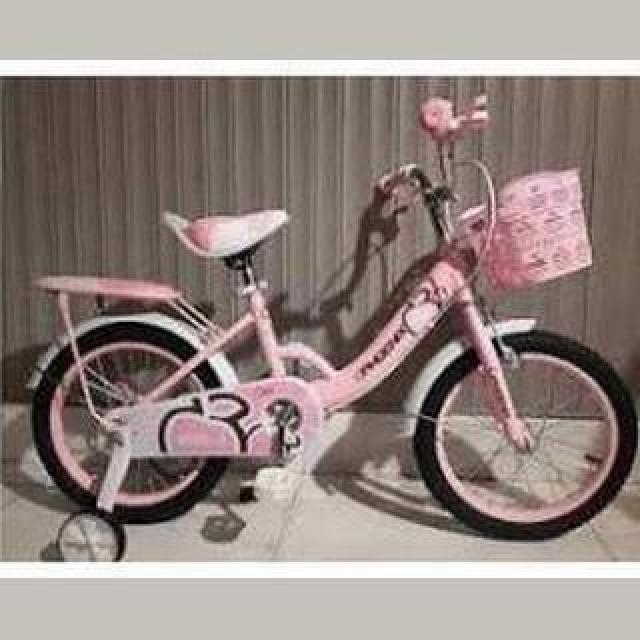Person: (17, 96, 639, 542)
